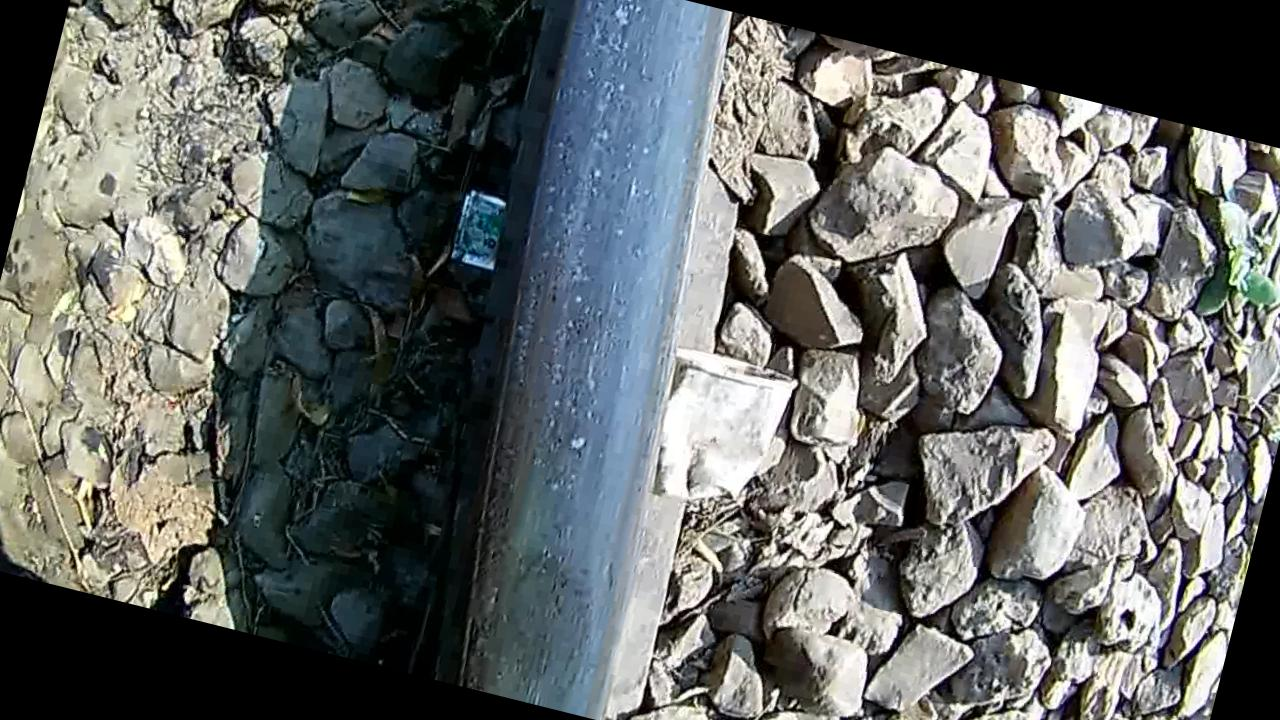bolt_missing: (443, 496, 661, 720)
